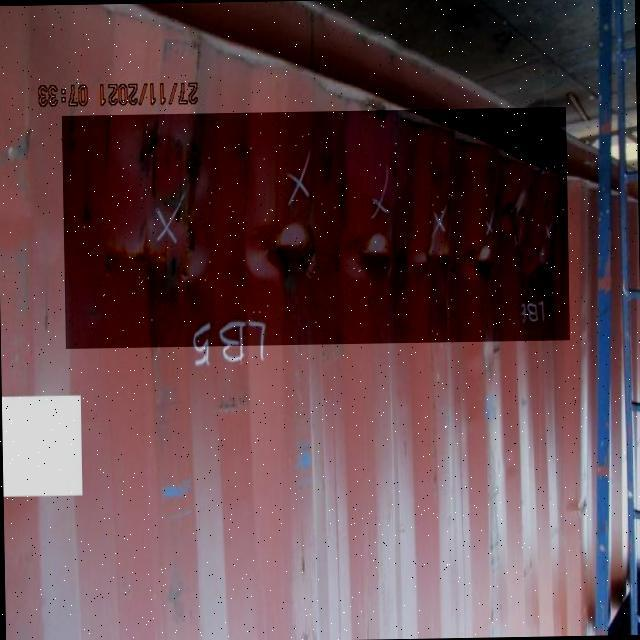Dent: (62, 107, 570, 349)
